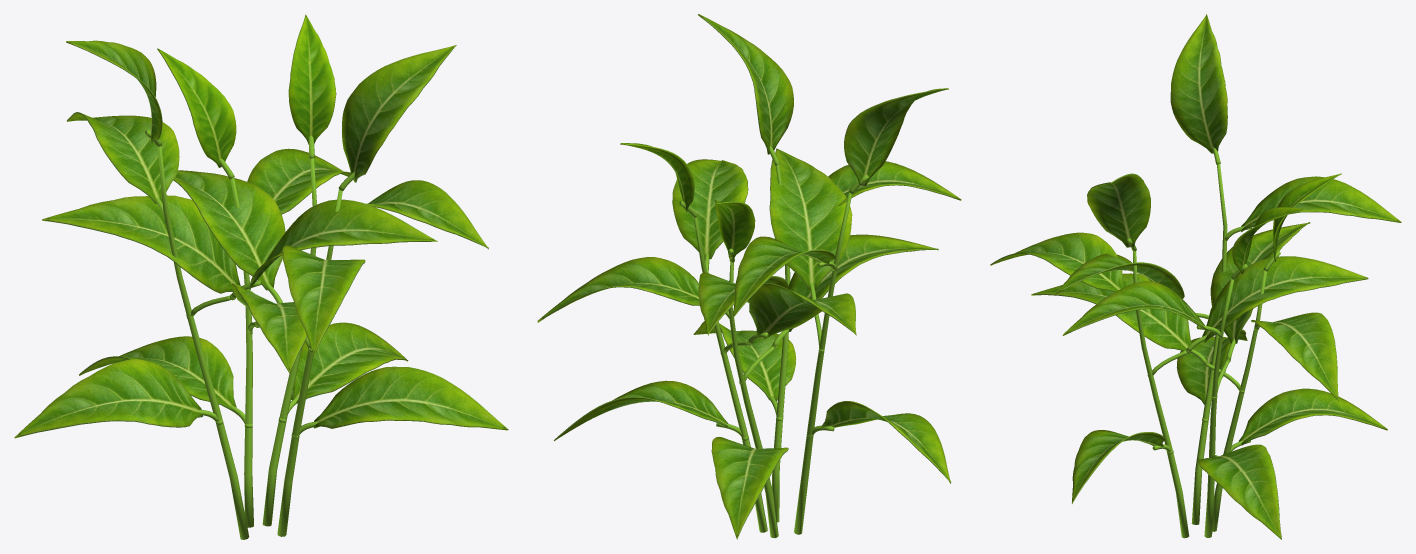
The model's file is NP_WaterSpinach_LeafGrowth.fbx.
3 views of the same model, side by side, from view 1: azimuth 30°, elevation 25°; view 2: azimuth 150°, elevation 25°; view 3: azimuth 270°, elevation 25° (orthographic). The views are drawn at different scales.
Parts seen in each view (by area): view 1: NP_WaterSpinach_LeafGrowth; view 2: NP_WaterSpinach_LeafGrowth; view 3: NP_WaterSpinach_LeafGrowth.
Part boxes in pixels (x1,y1,x2,y2): NP_WaterSpinach_LeafGrowth: (14,14,508,539); NP_WaterSpinach_LeafGrowth: (537,14,961,539); NP_WaterSpinach_LeafGrowth: (990,14,1401,539).
Bounding box in the file's own units: 65.92 × 81.14 × 68.54.
